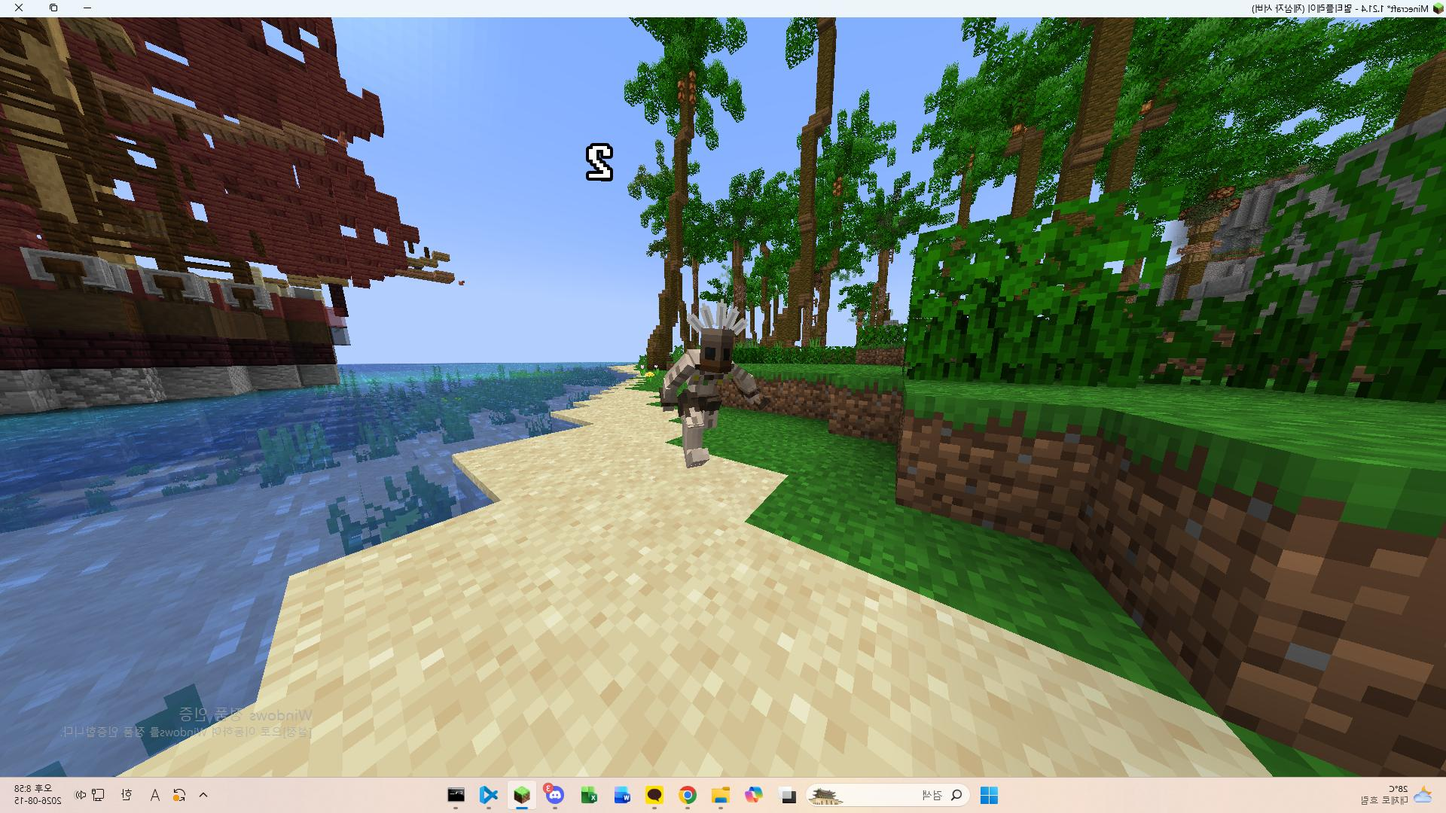bow_indian: (634, 299, 764, 482)
